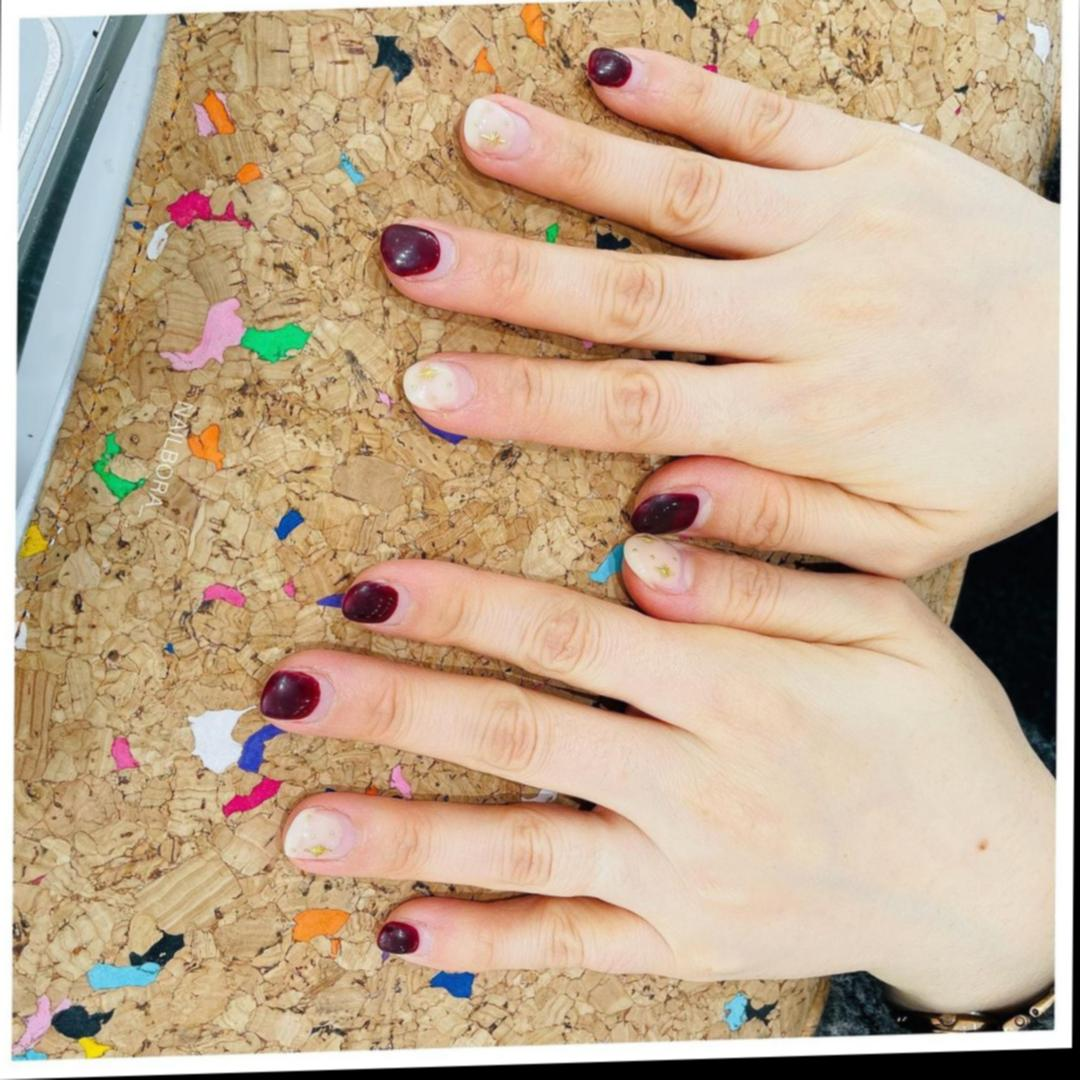nail: (461, 94, 533, 161), (620, 531, 694, 594), (379, 221, 453, 282), (402, 356, 476, 412), (283, 804, 355, 861), (630, 486, 711, 535), (259, 666, 326, 723), (340, 578, 401, 625), (586, 46, 634, 89), (377, 919, 420, 955)
